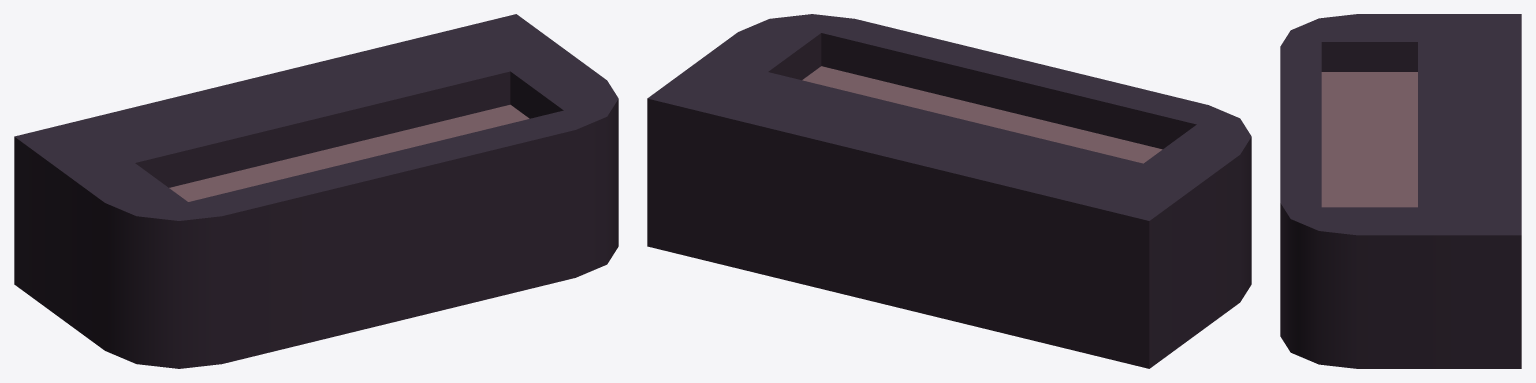
File: PlanterBox_Black02.glb
3 views of the same model, side by side, from view 1: azimuth 30°, elevation 25°; view 2: azimuth 150°, elevation 25°; view 3: azimuth 270°, elevation 25° (orthographic). The views are drawn at different scales.
Parts seen in each view (by area): view 1: PlanterBox_Black02; view 2: PlanterBox_Black02; view 3: PlanterBox_Black02.
Part boxes in pixels (box(x1,y1,x2,y2)): PlanterBox_Black02: box(14, 14, 618, 368); PlanterBox_Black02: box(647, 14, 1251, 368); PlanterBox_Black02: box(1280, 14, 1521, 368).
Bounding box in the file's own units: 0.9727 × 0.2738 × 0.4483.
Materials: 1 (1 with a texture image).
